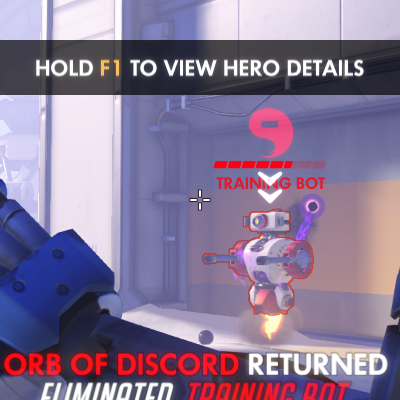hpbar: (213, 160, 326, 169)
